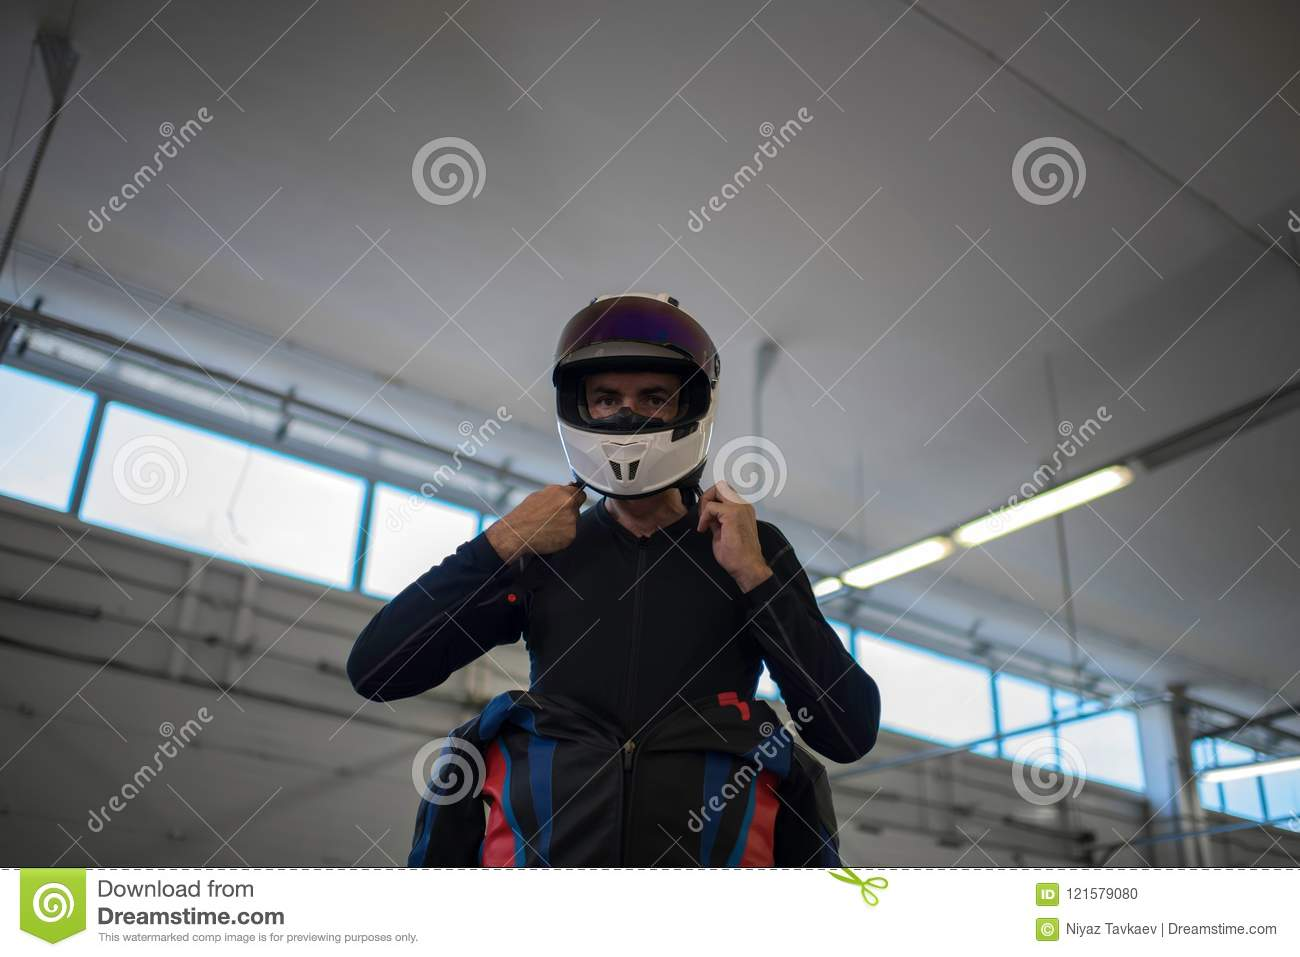helmet: (548, 301, 715, 495)
